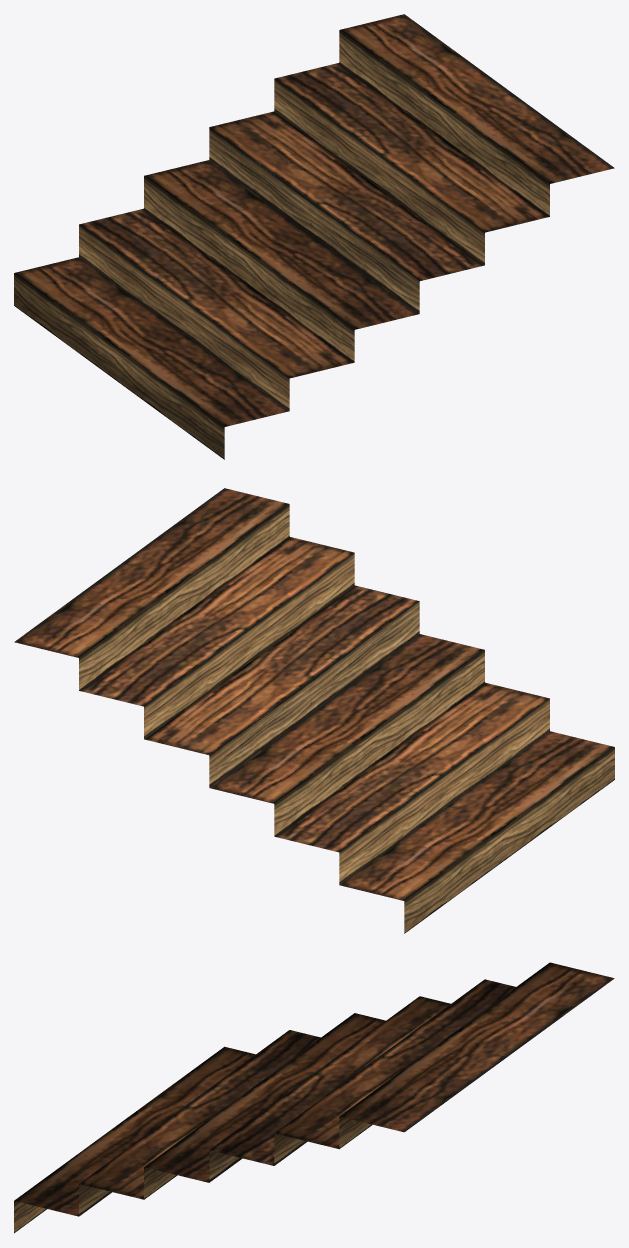
The model's file is LAKETOWN_EXTERIOR_PS_LT_STEPS196.fbx.
The picture shows the model from 3 angles, top to bottom: view 1: azimuth 30°, elevation 25°; view 2: azimuth 150°, elevation 25°; view 3: azimuth 330°, elevation 25°; orthographic projection.
Visible parts, largest first — view 1: LAKETOWN_EXTERIOR_PS_LT_STEPS196; view 2: LAKETOWN_EXTERIOR_PS_LT_STEPS196; view 3: LAKETOWN_EXTERIOR_PS_LT_STEPS196.
Part boxes in pixels (x1,y1,x2,y2): LAKETOWN_EXTERIOR_PS_LT_STEPS196: (14,14,614,459); LAKETOWN_EXTERIOR_PS_LT_STEPS196: (14,488,614,933); LAKETOWN_EXTERIOR_PS_LT_STEPS196: (14,962,614,1233).
Size of the model in its own units: 30000 by 14419 by 28017.
Materials: 2 (2 with a texture image).
